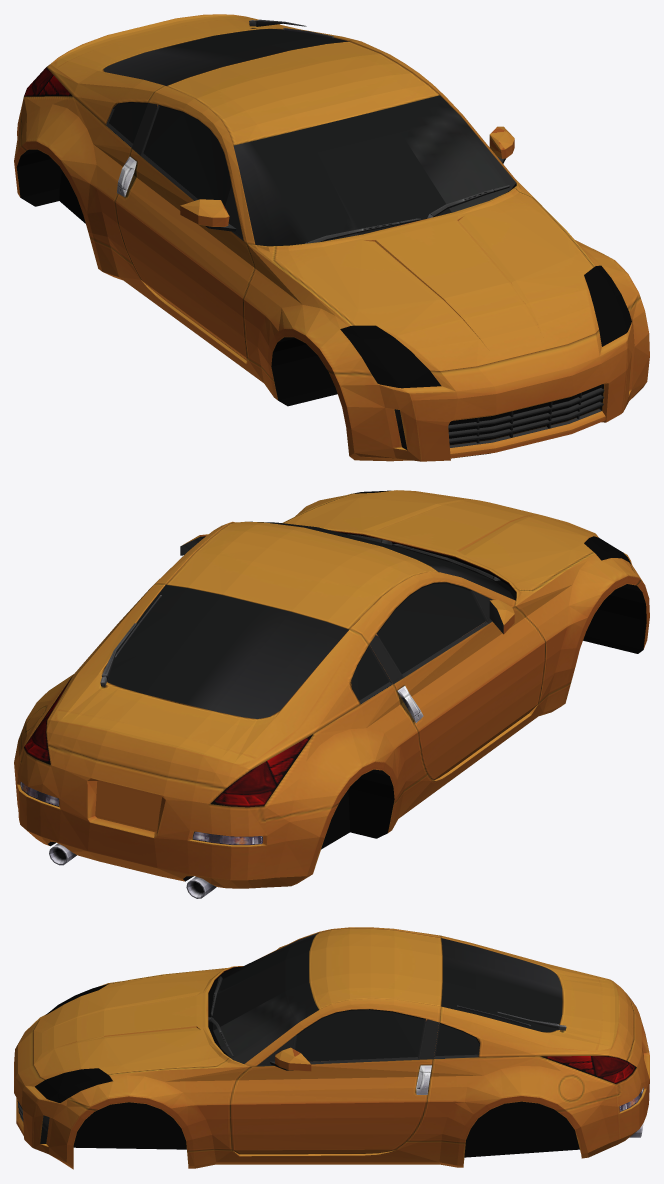
The model's file is ZZ_Body.obj.
The picture shows the model from 3 angles, top to bottom: view 1: azimuth 30°, elevation 25°; view 2: azimuth 150°, elevation 25°; view 3: azimuth 270°, elevation 25°; orthographic projection. The views are drawn at different scales.
Bounding box in the file's own units: 29.64 × 18.05 × 65.55.
